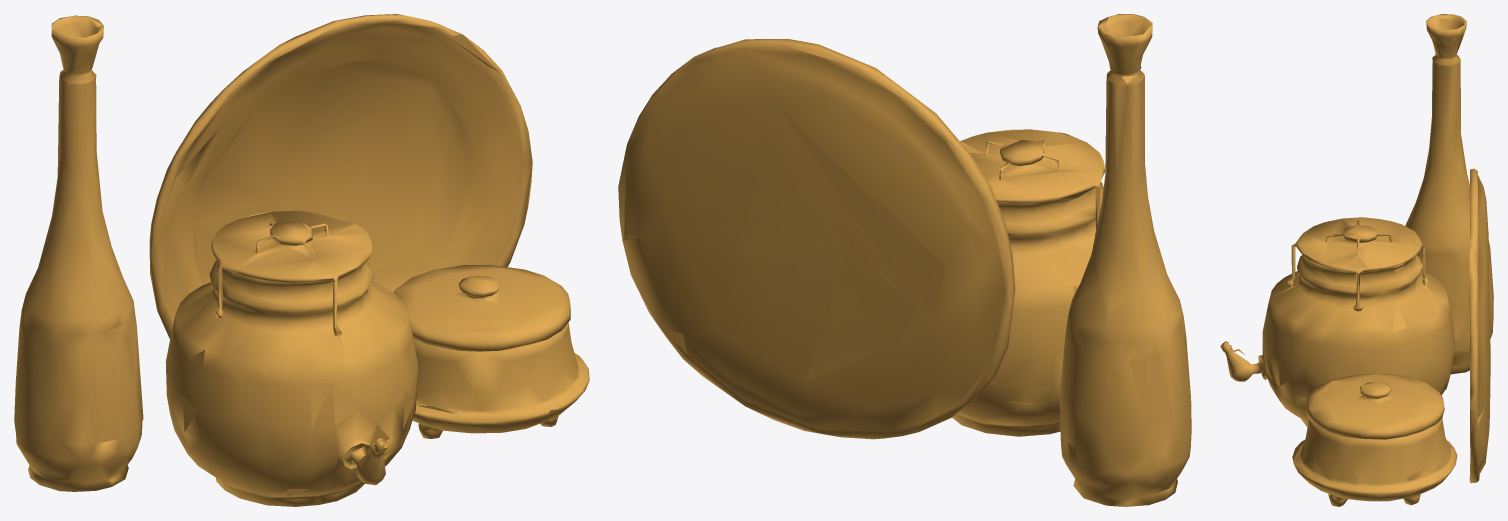
The model's file is la_brass_vessels.glb.
3 views of the same model, side by side, from view 1: azimuth 30°, elevation 25°; view 2: azimuth 150°, elevation 25°; view 3: azimuth 270°, elevation 25° (orthographic). The views are drawn at different scales.
Visible parts, largest first — view 1: la_brass_vessels; view 2: la_brass_vessels; view 3: la_brass_vessels.
Part boxes in pixels (left/top/right/bottom): la_brass_vessels: left=14, top=14, right=589, bottom=506; la_brass_vessels: left=618, top=14, right=1191, bottom=506; la_brass_vessels: left=1220, top=14, right=1493, bottom=506.
Bounding box in the file's own units: 0.9 × 0.7289 × 0.5349.
1 material, 1 textured.
